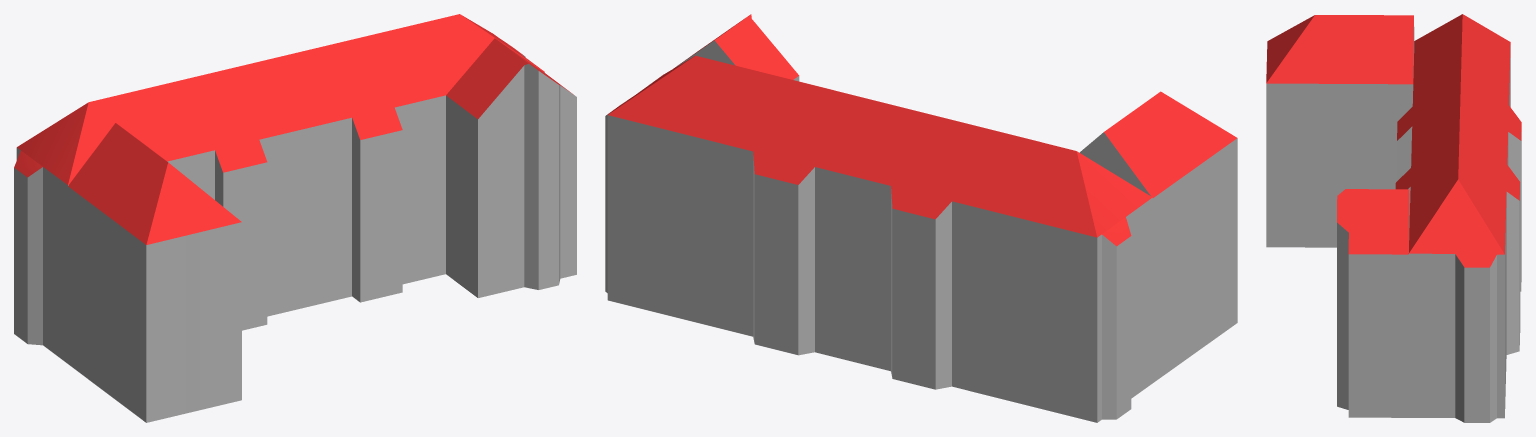
Rendered from DEBE3D01YYK0002Qus.dae.
3 views of the same model, side by side, from view 1: azimuth 30°, elevation 25°; view 2: azimuth 150°, elevation 25°; view 3: azimuth 270°, elevation 25° (orthographic). The views are drawn at different scales.
Bounding box in the file's own units: 56.74 × 27.59 × 25.32.
